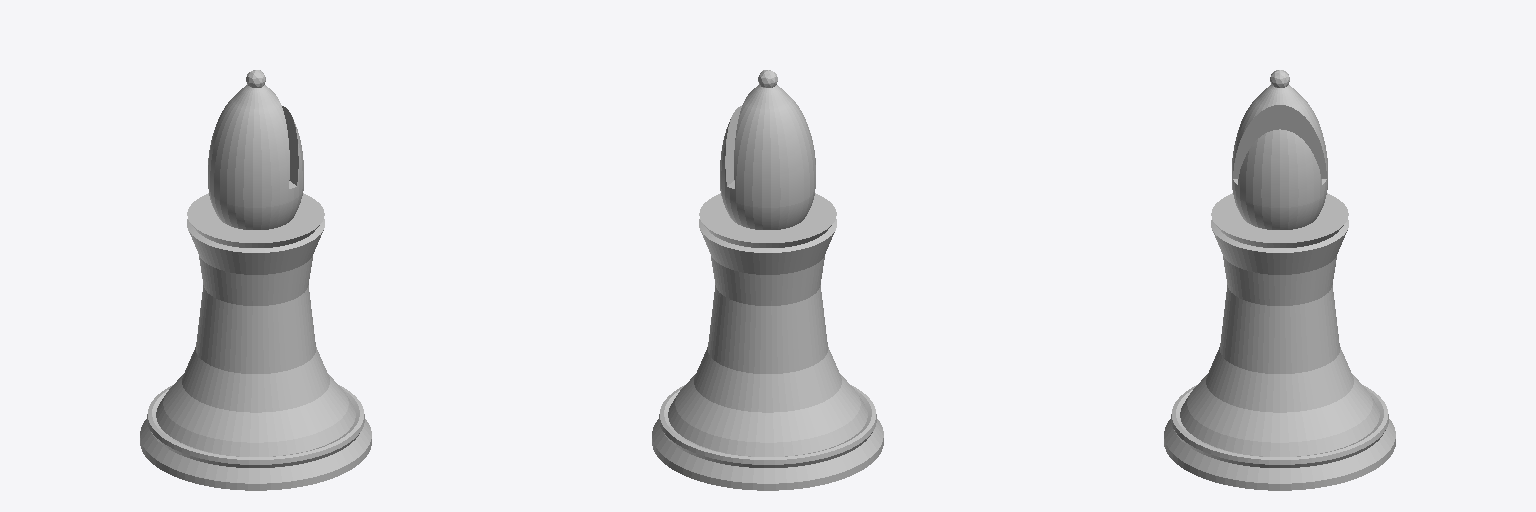
File: chess_fou.obj
3 views of the same model, side by side, from view 1: azimuth 30°, elevation 25°; view 2: azimuth 150°, elevation 25°; view 3: azimuth 270°, elevation 25° (orthographic).
Parts seen in each view (by area): view 1: Circle.001; view 2: Circle.001; view 3: Circle.001.
Part boxes in pixels (x1,y1,x2,y2): Circle.001: (140,70,371,490); Circle.001: (652,70,883,490); Circle.001: (1164,70,1395,490).
Size of the model in its own units: 22.56 by 39.83 by 22.56.